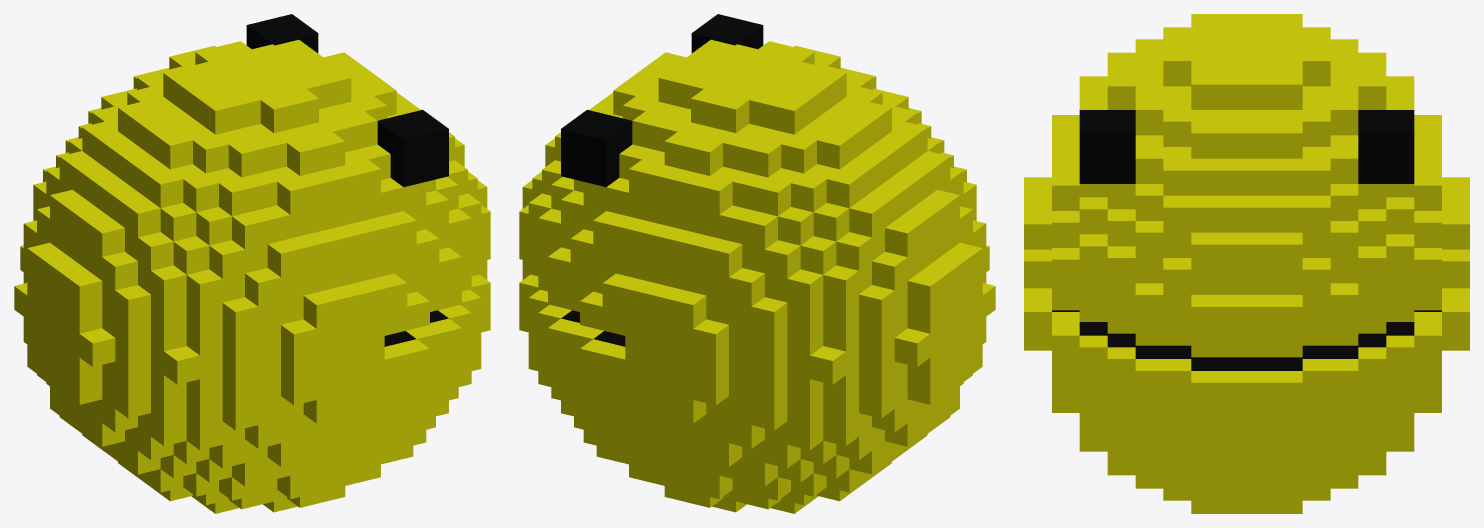
The model's file is pacman.gltf.
3 renders of one model, left to right at view 1: azimuth 30°, elevation 25°; view 2: azimuth 150°, elevation 25°; view 3: azimuth 270°, elevation 25°, orthographic. The views are drawn at different scales.
Bounding box in the file's own units: 18 × 17 × 16.
